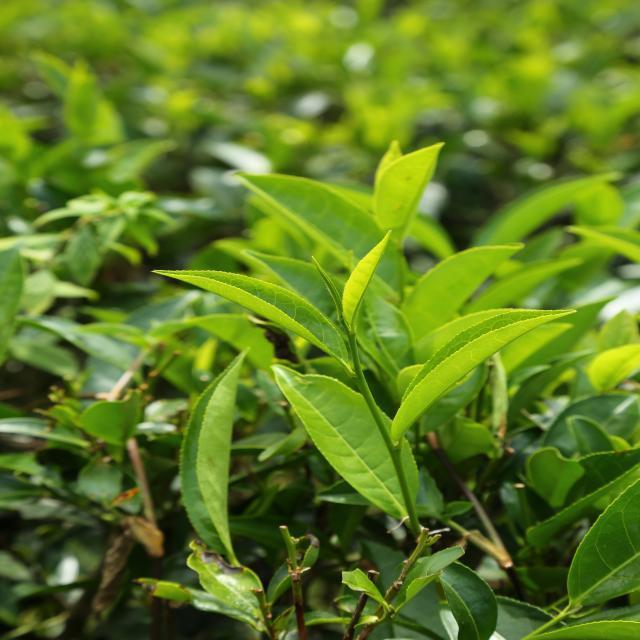Stem: (347, 334, 358, 356)
